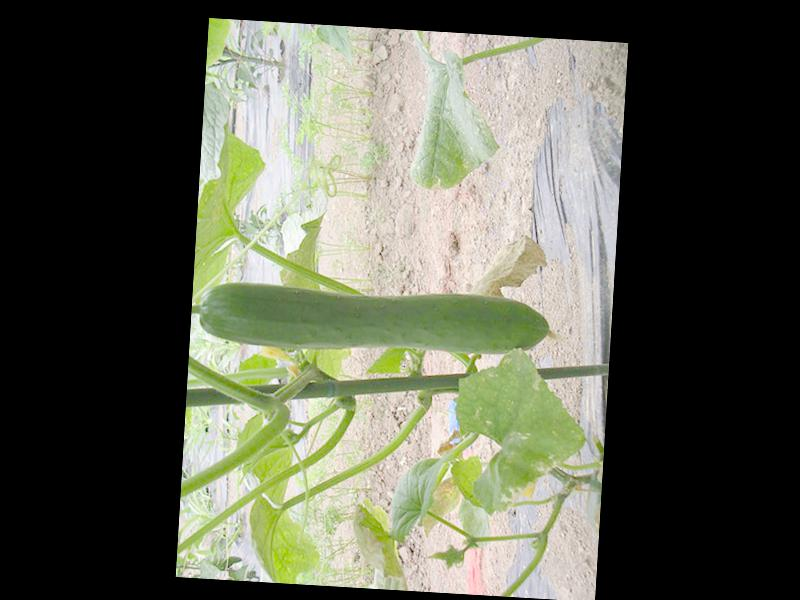Cucumber: (197, 278, 560, 364)
